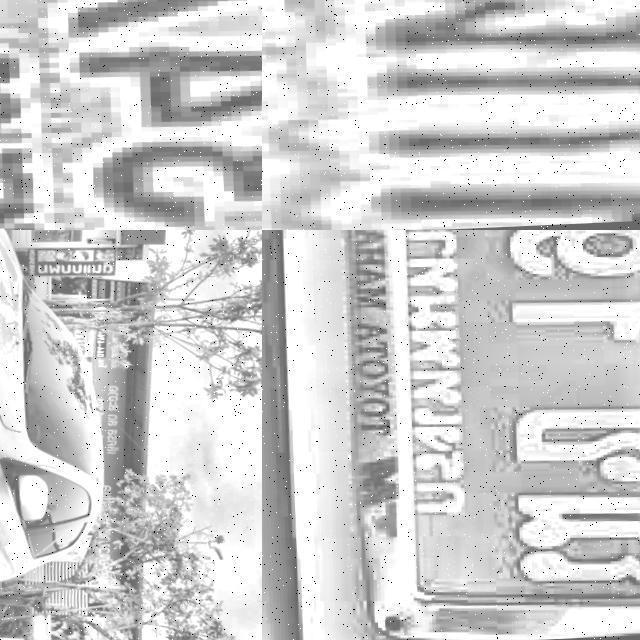license-plate: (264, 230, 640, 640), (262, 0, 640, 230), (0, 0, 262, 230)
